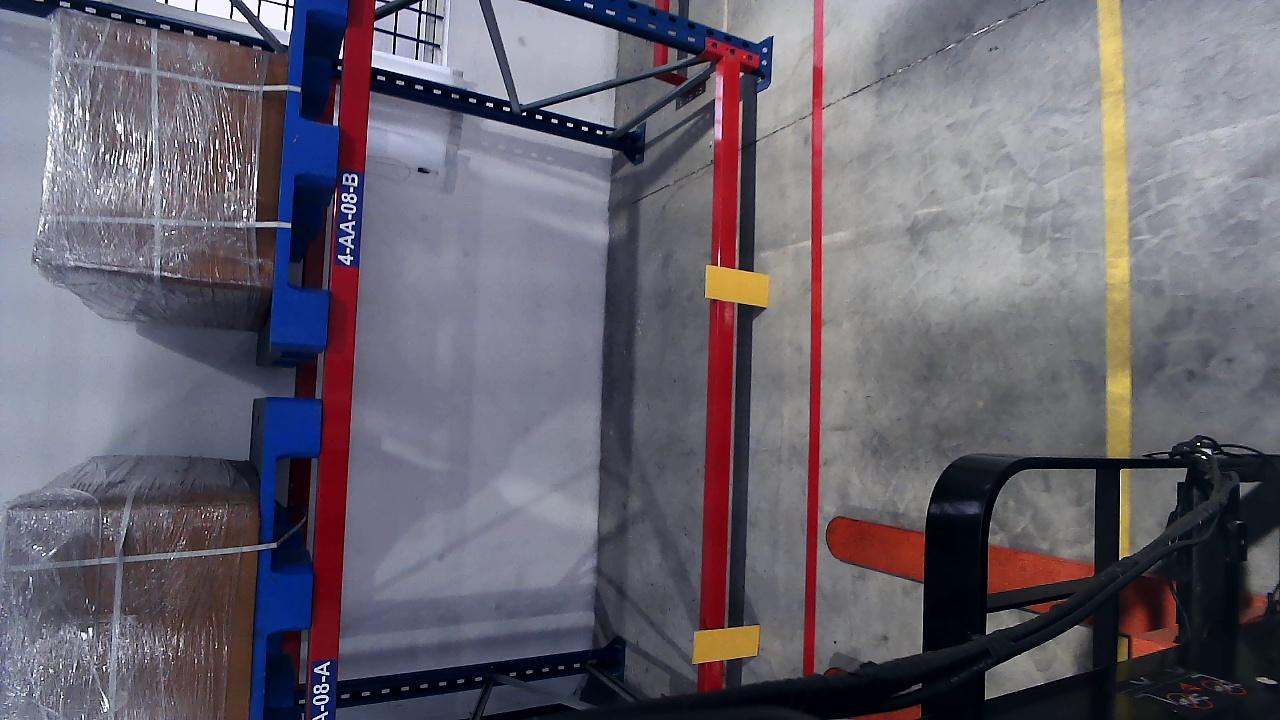h_rack: (323, 0, 362, 720), (703, 59, 737, 694)
orange_strip: (704, 265, 768, 308), (693, 626, 760, 663)
red_line: (800, 0, 828, 676)
small_pallet: (266, 0, 347, 340), (244, 397, 315, 720)
yellow_line: (1096, 1, 1133, 575)
